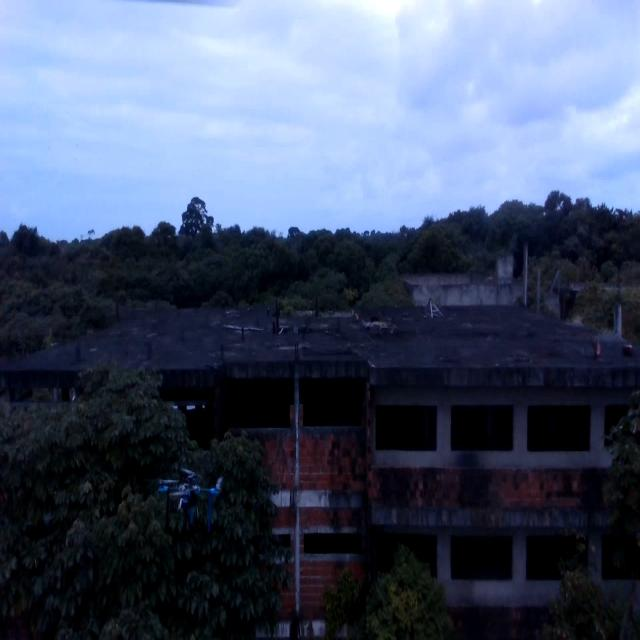-uav-: (144, 448, 233, 546)
